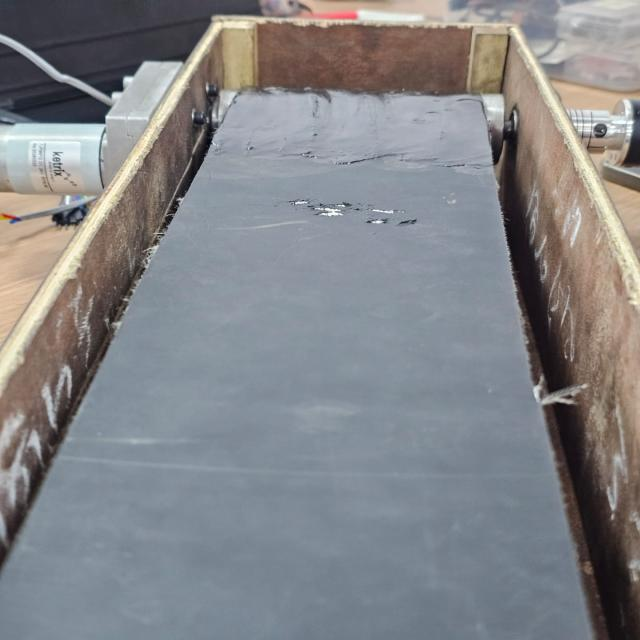Joint_Damage: (212, 87, 513, 172)
scratch: (276, 193, 461, 232)
